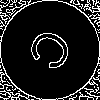C: (25, 25, 84, 80)
